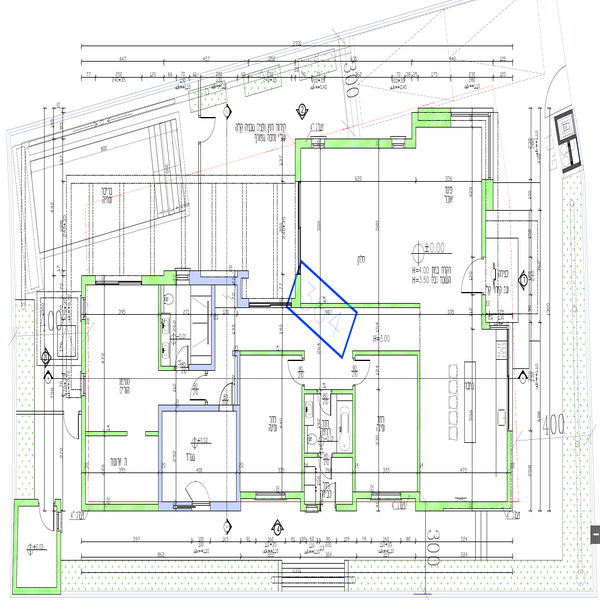door: (462, 256, 489, 296), (64, 407, 87, 446), (288, 352, 311, 390), (35, 496, 57, 534), (316, 478, 340, 512), (350, 357, 374, 388), (190, 376, 214, 405), (316, 388, 337, 414), (317, 457, 339, 481), (174, 346, 195, 371), (221, 380, 237, 407)
room: (77, 275, 248, 513), (292, 134, 497, 307), (232, 351, 429, 507), (416, 294, 518, 518)
wall: (414, 502, 517, 514), (157, 407, 167, 510), (156, 282, 167, 375), (299, 303, 422, 311), (232, 409, 241, 513), (85, 501, 157, 512), (323, 139, 392, 150), (209, 284, 217, 372), (81, 397, 87, 510), (238, 349, 312, 357), (158, 405, 222, 414), (416, 354, 420, 497), (80, 317, 90, 372), (207, 497, 238, 513), (351, 349, 420, 356), (507, 428, 513, 505), (138, 273, 175, 285), (294, 140, 302, 182), (189, 364, 214, 371)
window: (500, 324, 518, 426), (294, 185, 305, 279), (373, 489, 406, 505), (256, 489, 287, 504)
